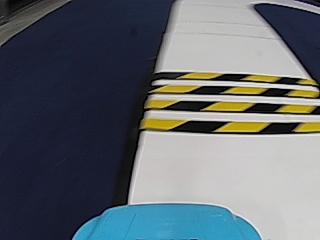bump: (139, 65, 320, 142)
